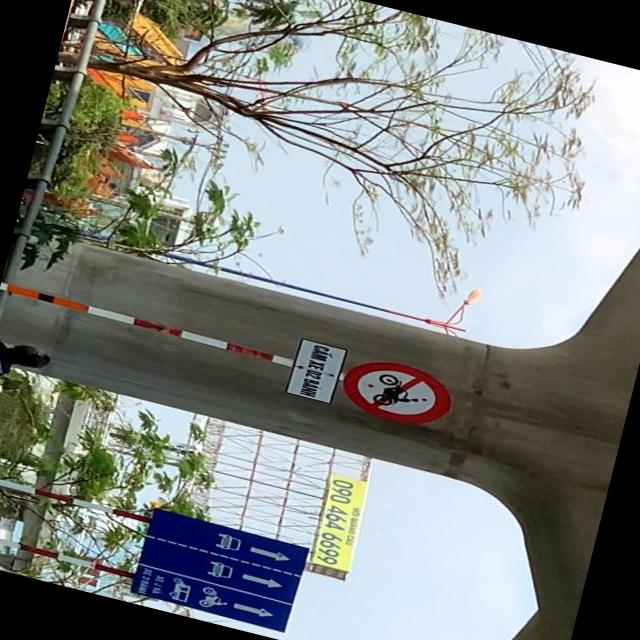P-104: (338, 352, 461, 434)
